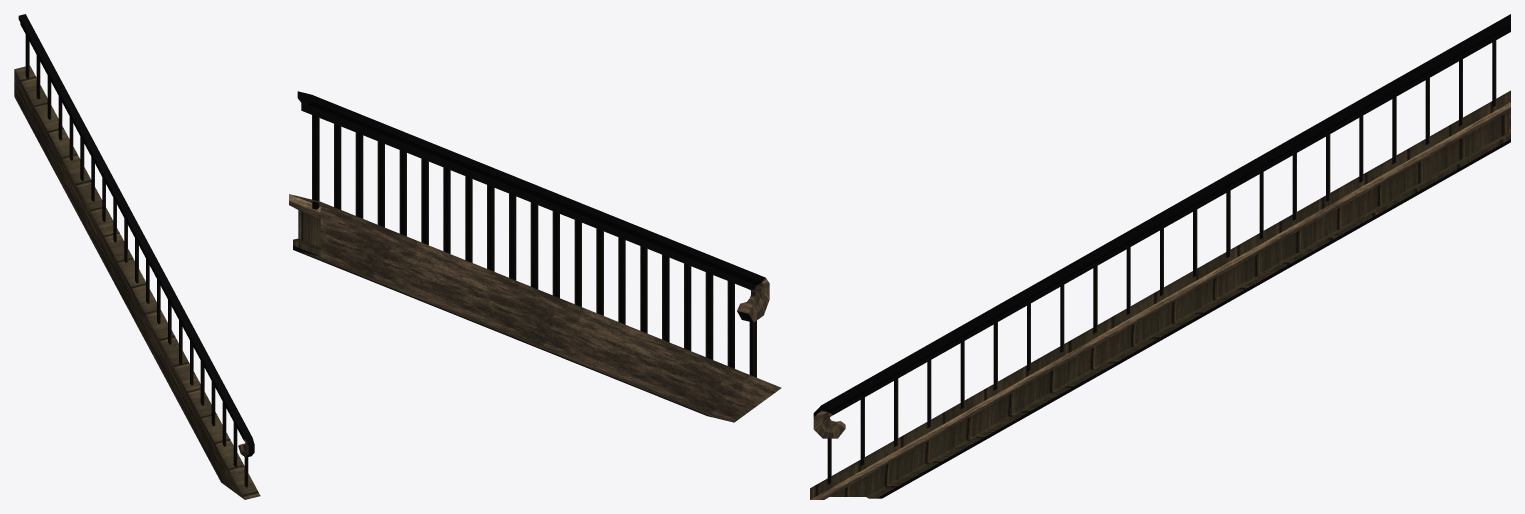
The model's file is stairs_railing.fbx.
The picture shows the model from 3 angles, left to right: view 1: azimuth 30°, elevation 25°; view 2: azimuth 150°, elevation 25°; view 3: azimuth 270°, elevation 25°; orthographic projection. The views are drawn at different scales.
Visible parts, largest first — view 1: pCube47; view 2: pCube47; view 3: pCube47.
Part boxes in pixels (x1=…): pCube47: x1=14, y1=14, x2=260, y2=499; pCube47: x1=289, y1=91, x2=781, y2=422; pCube47: x1=810, y1=14, x2=1510, y2=499.
Bounding box in the file's own units: 33.3 × 634 × 844.
1 material, 1 textured.
